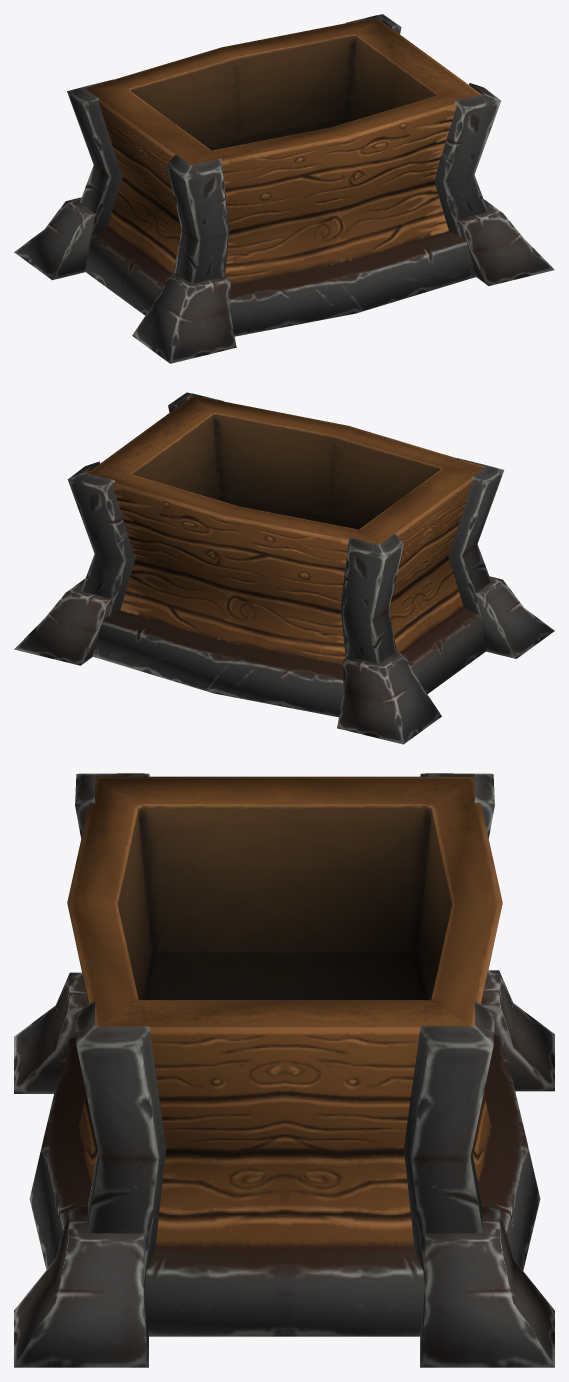
Rendered from chest_body.fbx.
3 renders of one model, top to bottom at view 1: azimuth 30°, elevation 25°; view 2: azimuth 150°, elevation 25°; view 3: azimuth 270°, elevation 25°, orthographic. The views are drawn at different scales.
Visible parts, largest first — view 1: chest_body; view 2: chest_body; view 3: chest_body.
Part boxes in pixels (x1,y1,x2,y2): chest_body: (14,14,554,363); chest_body: (14,392,554,744); chest_body: (14,773,554,1367).
Size of the model in its own units: 62.63 by 26.35 by 42.96.
